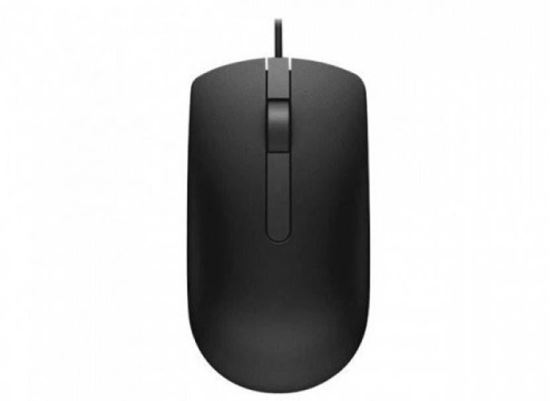dell-mouse-ms116: (186, 20, 368, 393)
